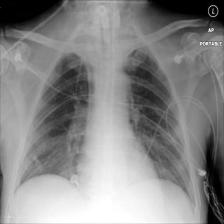normal: (7, 45, 200, 211)
